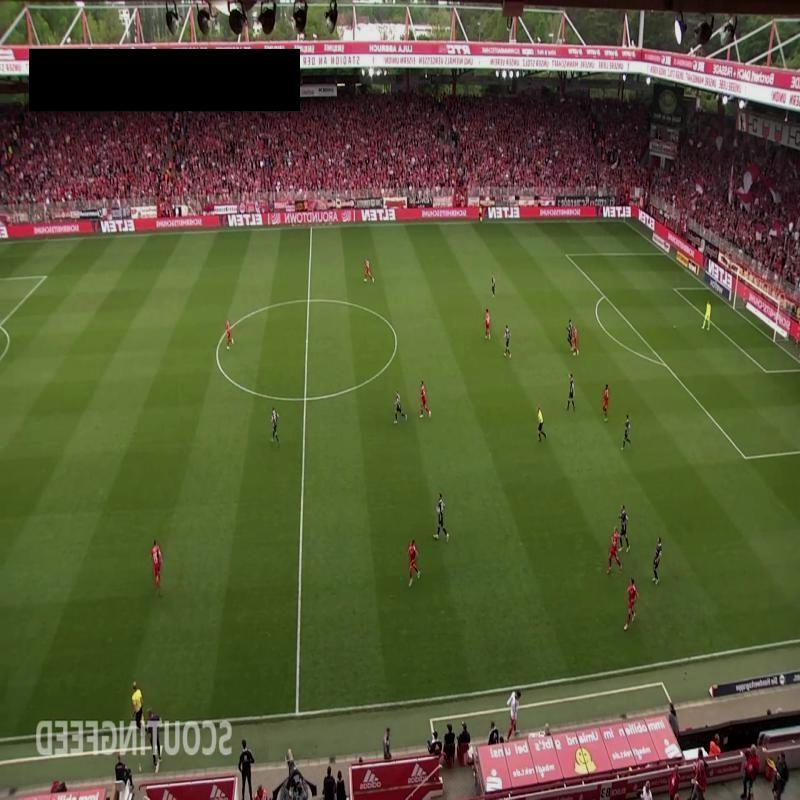1: (617, 216, 631, 230)
10: (596, 287, 614, 307)
11: (658, 358, 672, 372)
12: (738, 448, 754, 467)
13: (305, 220, 319, 234)
14: (300, 292, 316, 309)
15: (296, 390, 312, 407)
16: (286, 702, 308, 725)
2: (657, 248, 672, 262)
3: (702, 282, 716, 295)
7: (668, 284, 682, 297)
8: (760, 365, 774, 379)
9: (558, 247, 576, 264), (38, 268, 52, 282)
c: (208, 341, 226, 358), (390, 334, 404, 348)
